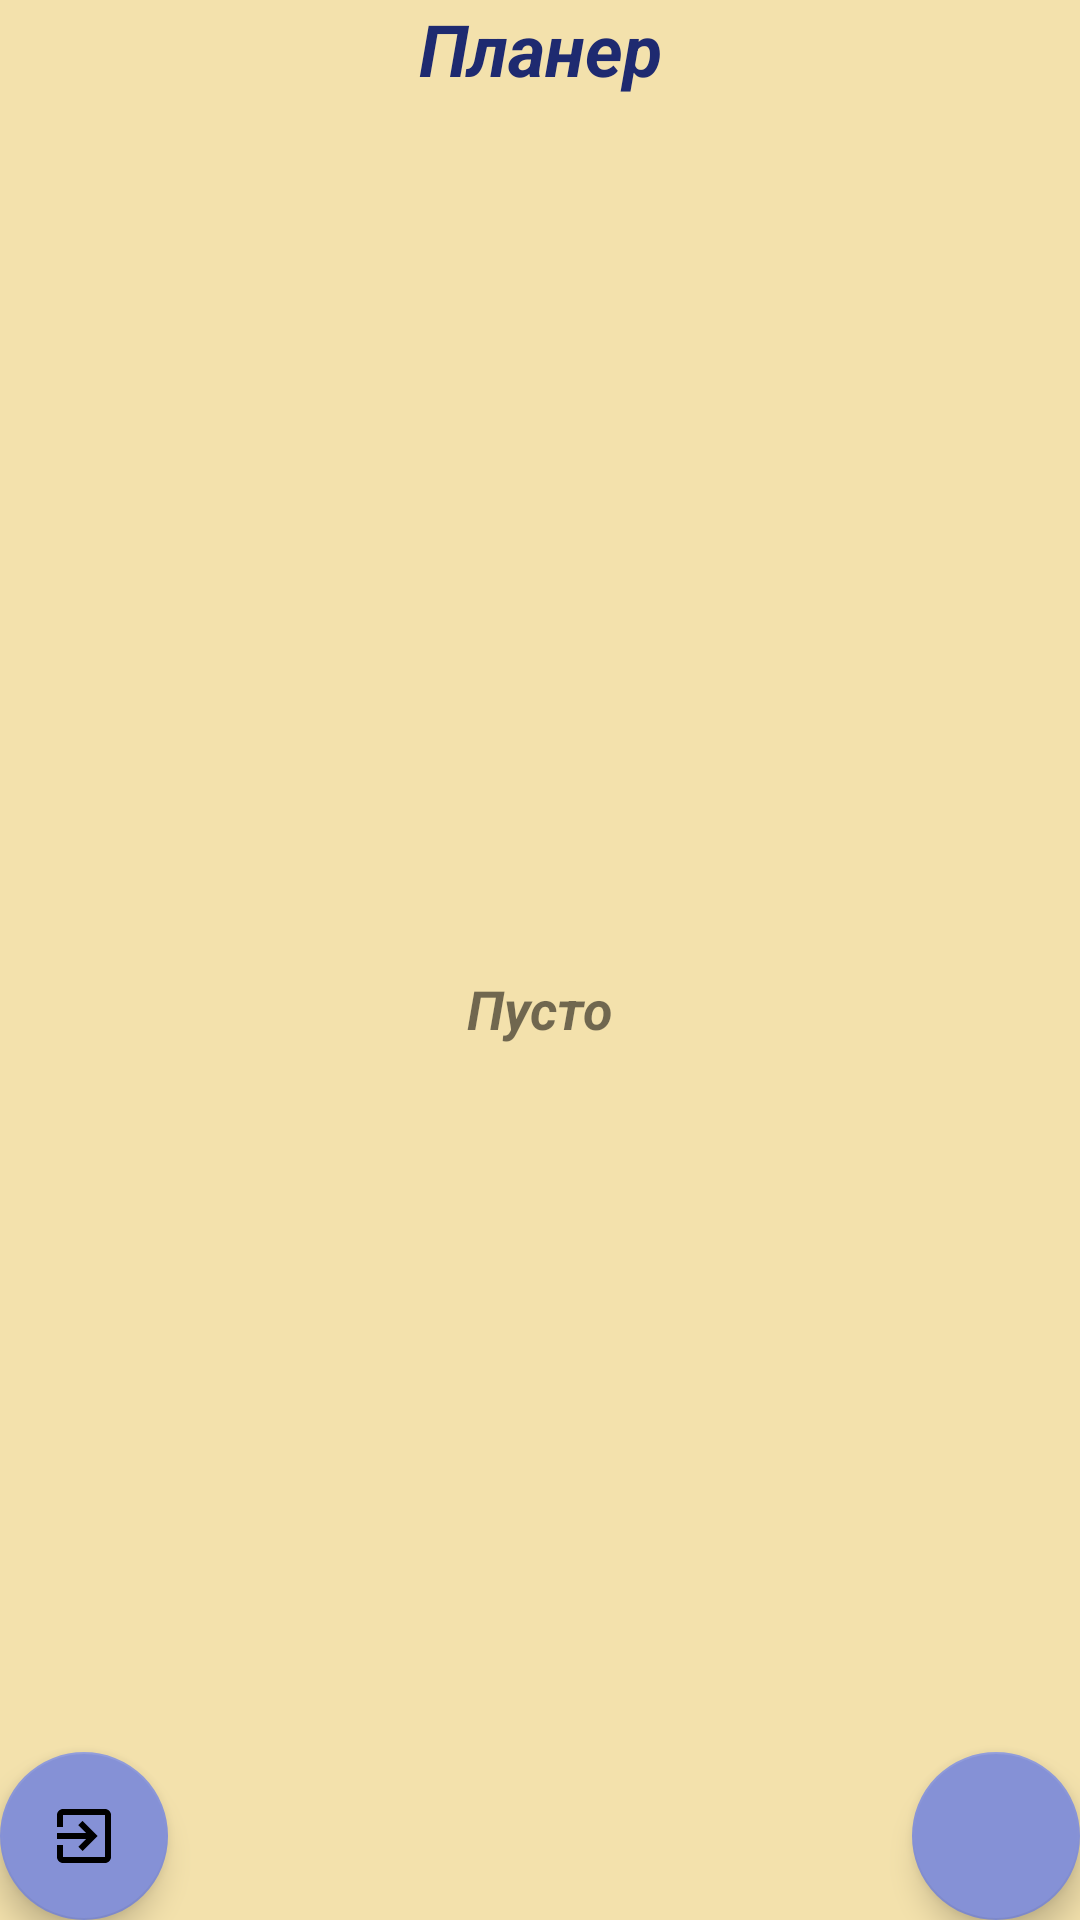

Point at icon controls on the screen. Image size 1080×1920, points as point (x, y).
exit: point (84, 1836)
